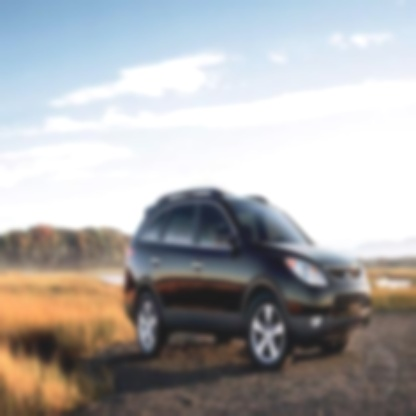Vehicle: (124, 189, 373, 376)
